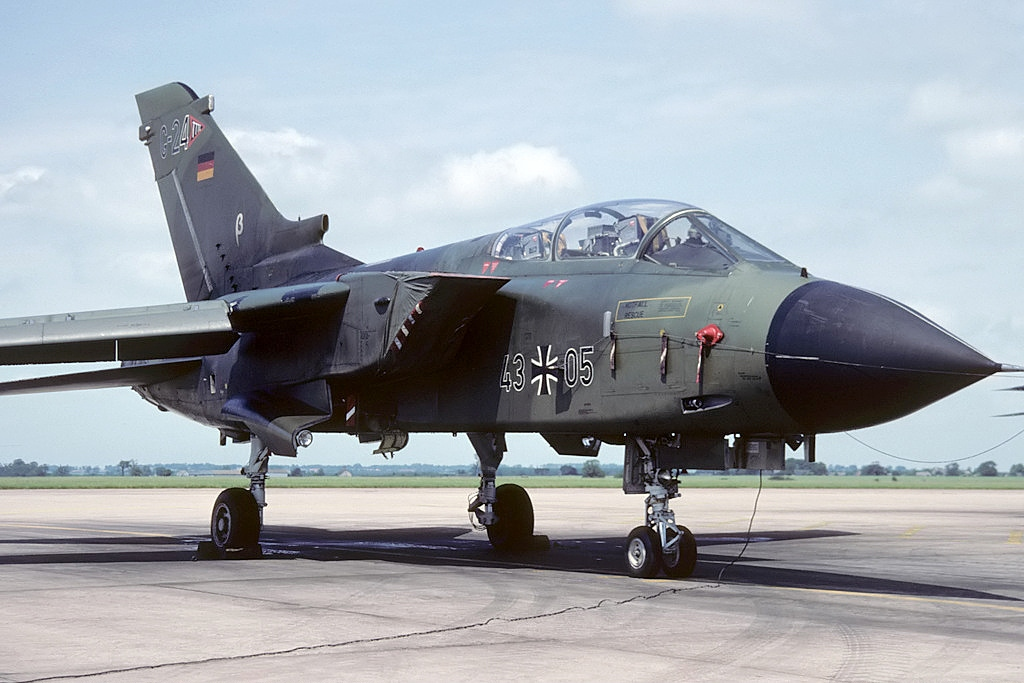Tornado: (1, 80, 1024, 579)
